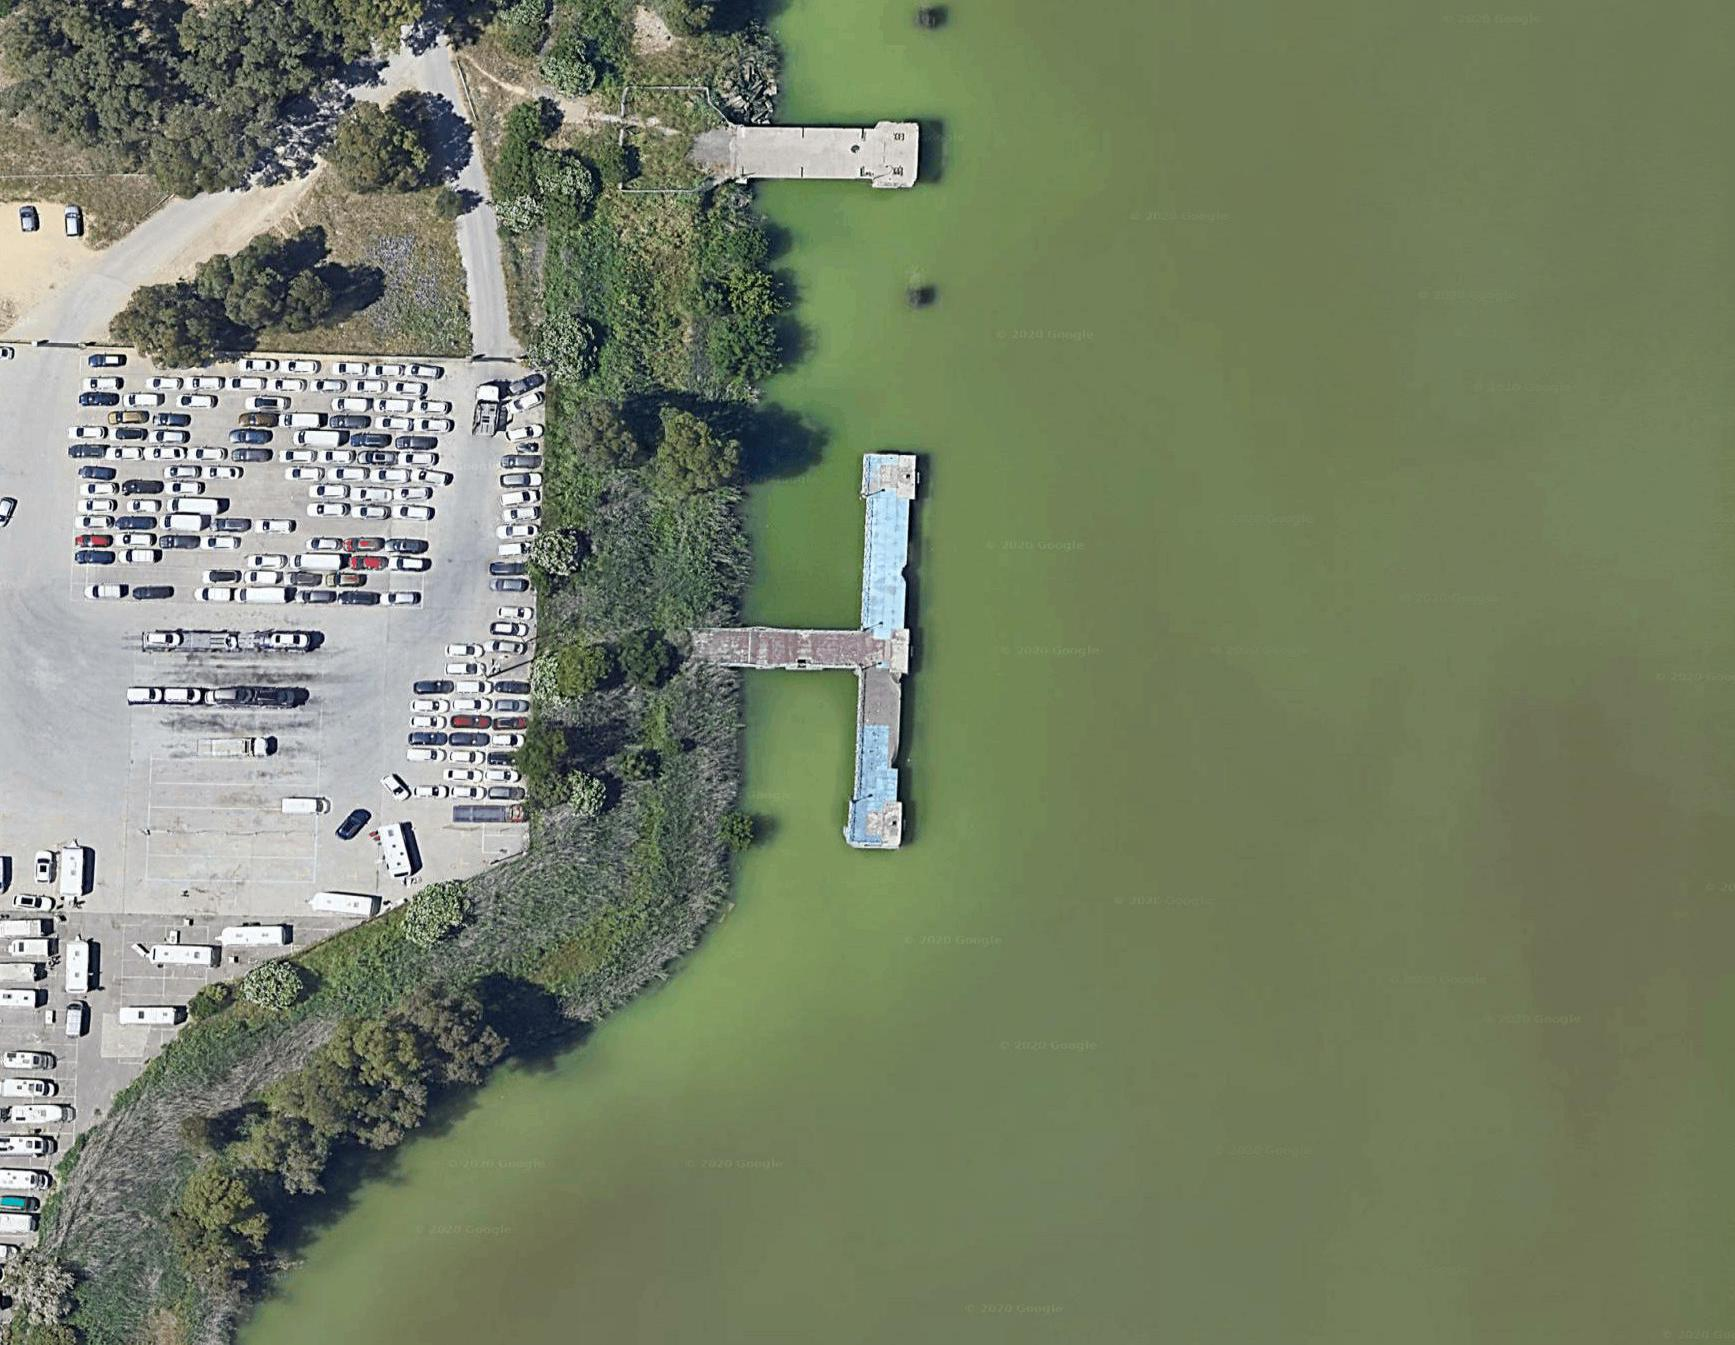harbor: (742, 448, 951, 861), (768, 99, 939, 208)
large-vehicle: (135, 623, 322, 652), (125, 680, 314, 708), (144, 937, 223, 969), (296, 889, 376, 920), (223, 920, 301, 951), (108, 1001, 187, 1032)
small-vehicle: (379, 587, 422, 613), (413, 670, 456, 696), (406, 777, 448, 803)
